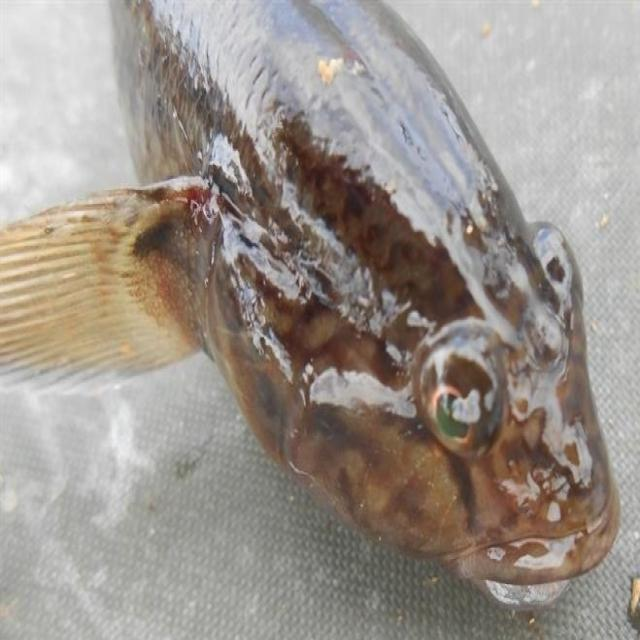Goby: (19, 0, 626, 622)
